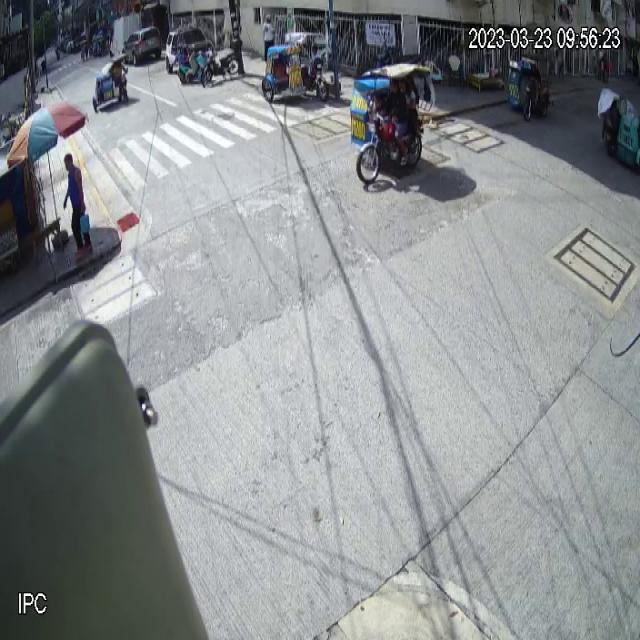Tricycle: (351, 62, 436, 184), (261, 31, 330, 104)
